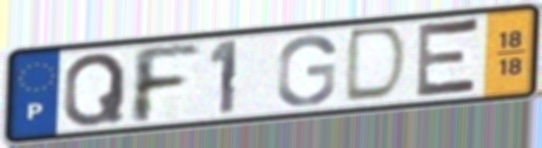1: (206, 36, 242, 119)
D: (339, 23, 412, 106)
E: (411, 15, 483, 102)
F: (127, 42, 204, 127)
G: (273, 32, 340, 108)
Q: (60, 50, 130, 130)
